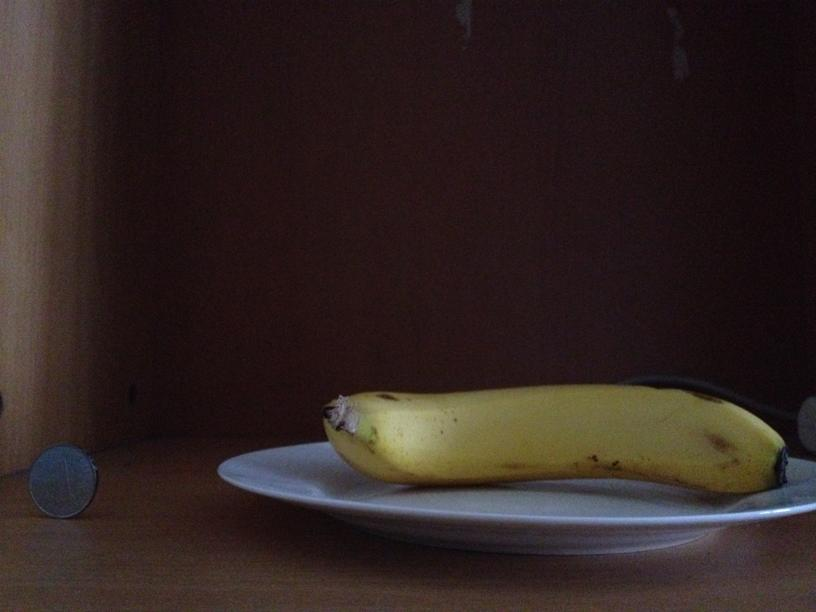banana: (329, 382, 780, 494)
coin: (27, 444, 96, 518)
